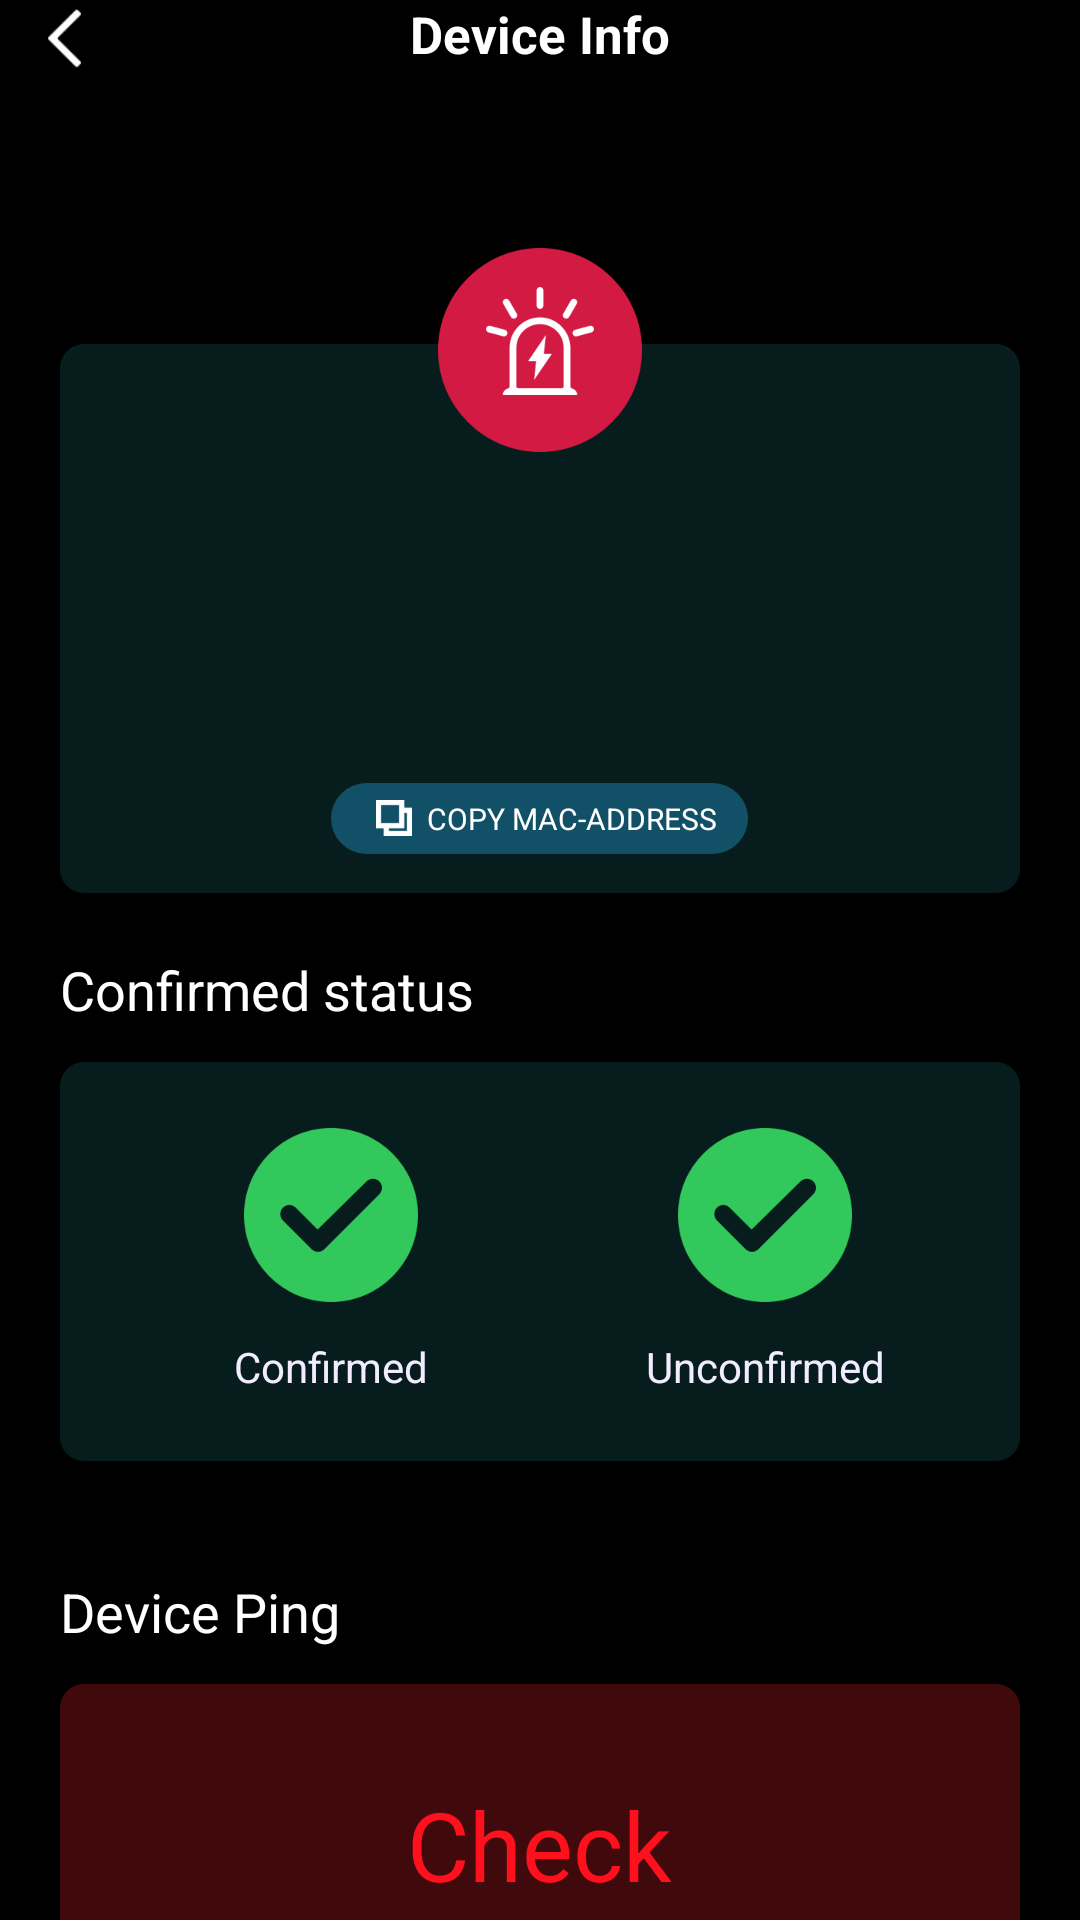

Screen size 1080 x 1920. Icon name, then its center in pixels as point (x, y):
back: point (64, 38)
duigou: point (331, 1215), point (765, 1215)
suspicious warm: point (540, 350)
